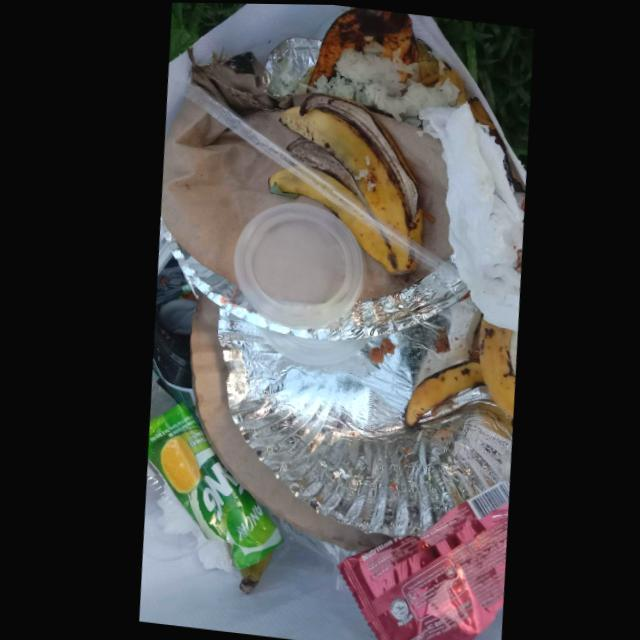biowaste: (266, 93, 421, 272), (401, 317, 512, 425), (309, 45, 462, 119), (310, 6, 418, 81)
wrapper: (331, 477, 505, 640), (143, 402, 278, 568)
